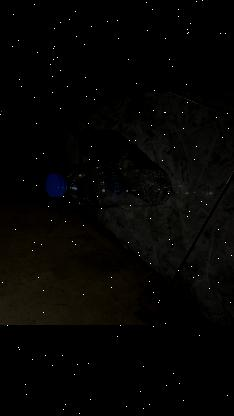Plastic Bottle: (44, 161, 172, 208)
